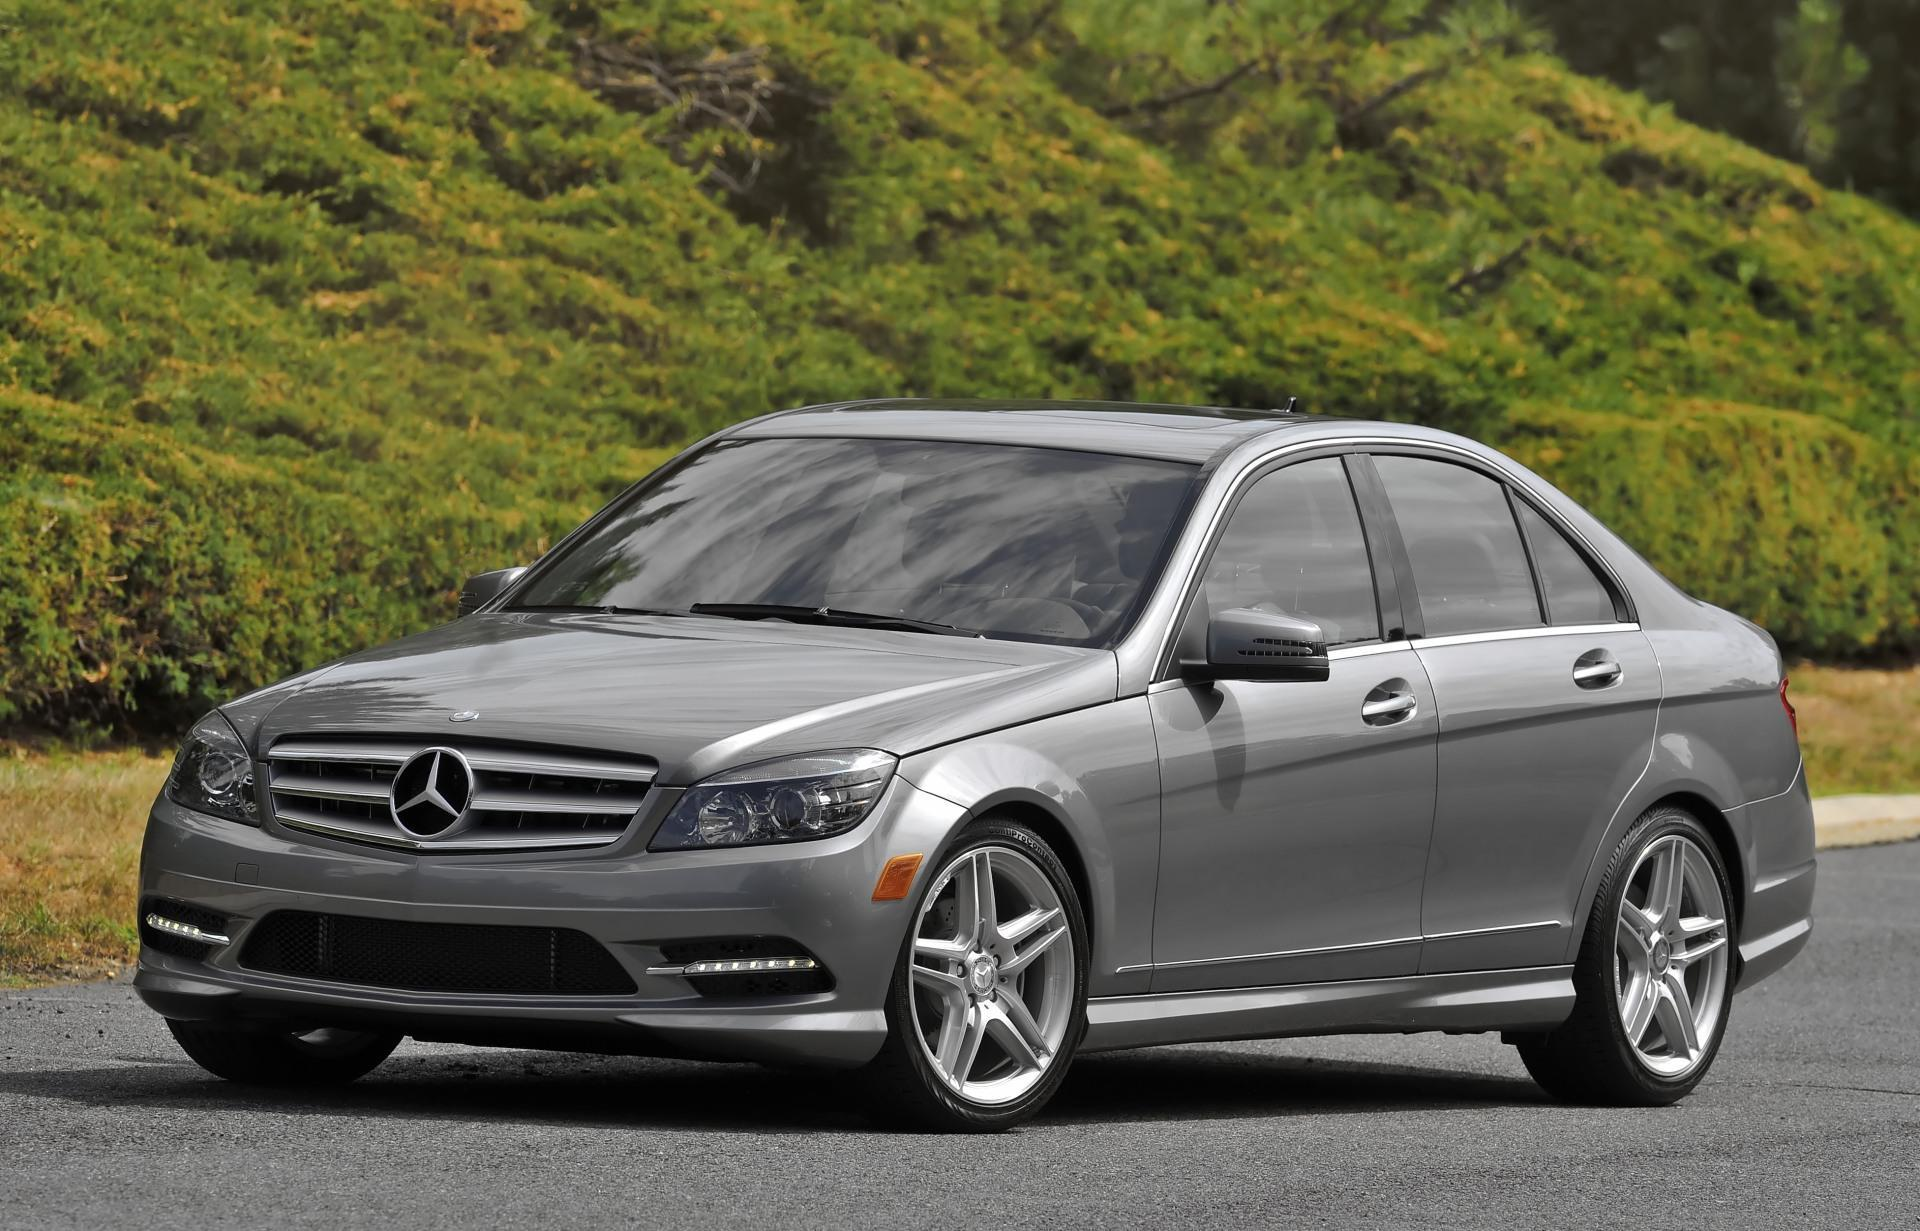Car: (106, 373, 1895, 1181)
